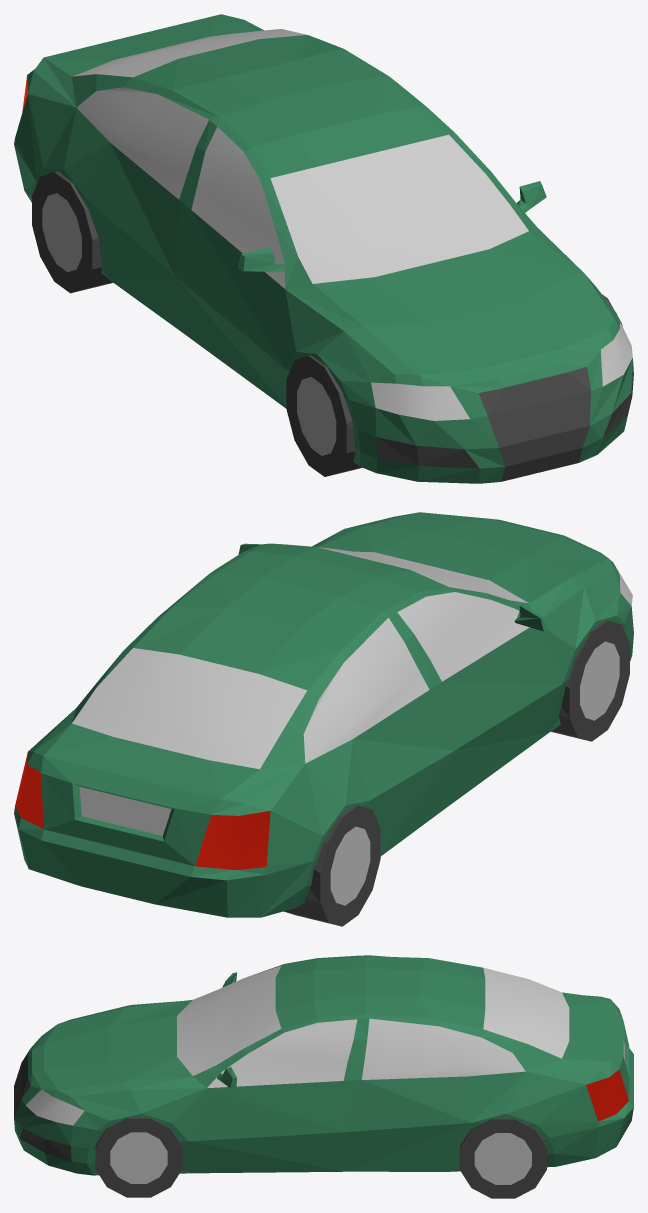
Rendered from car.dae.
The picture shows the model from 3 angles, top to bottom: view 1: azimuth 30°, elevation 25°; view 2: azimuth 150°, elevation 25°; view 3: azimuth 270°, elevation 25°; orthographic projection. The views are drawn at different scales.
Parts seen in each view (by area): view 1: polymsh_Pts_Material__4__Surf, polymsh_Pts_Material__1__Surf, polymsh_Pts_Material__3__Surf; view 2: polymsh_Pts_Material__4__Surf, polymsh_Pts_Material__1__Surf, polymsh_Pts_Material__3__Surf, polymsh_Pts_Material__2__Surf; view 3: polymsh_Pts_Material__4__Surf, polymsh_Pts_Material__1__Surf, polymsh_Pts_Material__3__Surf, polymsh_Pts_Material__2__Surf.
Boxes of the visible parts, box(x1,y1,x2,y2) form: polymsh_Pts_Material__4__Surf: box(14, 14, 633, 483); polymsh_Pts_Material__1__Surf: box(42, 29, 632, 455); polymsh_Pts_Material__3__Surf: box(32, 171, 633, 481); polymsh_Pts_Material__4__Surf: box(14, 512, 633, 917); polymsh_Pts_Material__1__Surf: box(72, 543, 632, 905); polymsh_Pts_Material__3__Surf: box(283, 620, 629, 926); polymsh_Pts_Material__2__Surf: box(15, 752, 270, 869); polymsh_Pts_Material__4__Surf: box(14, 955, 633, 1175); polymsh_Pts_Material__1__Surf: box(25, 966, 624, 1184); polymsh_Pts_Material__3__Surf: box(14, 1049, 546, 1198); polymsh_Pts_Material__2__Surf: box(586, 1069, 628, 1121).
Bounding box in the file's own units: 19.9 × 14.24 × 48.26.
